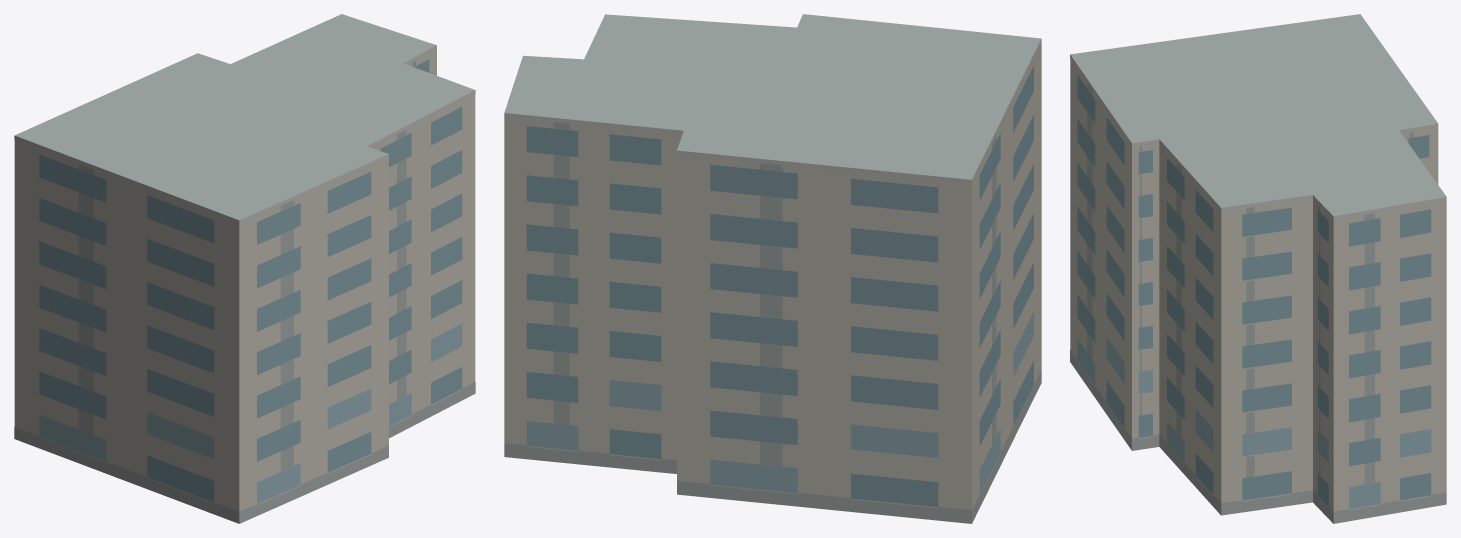
Rendered from survey-upis-32623656.glb.
3 views of the same model, side by side, from view 1: azimuth 30°, elevation 25°; view 2: azimuth 150°, elevation 25°; view 3: azimuth 270°, elevation 25° (orthographic). The views are drawn at different scales.
Visible parts, largest first — view 1: survey-upis-32623656.tmp; view 2: survey-upis-32623656.tmp; view 3: survey-upis-32623656.tmp.
Boxes of the visible parts, x1,y1,x2,y2 form: survey-upis-32623656.tmp: (14,14,475,523); survey-upis-32623656.tmp: (504,14,1041,523); survey-upis-32623656.tmp: (1070,14,1446,523).
Size of the model in its own units: 27.39 by 19.4 by 21.54.
